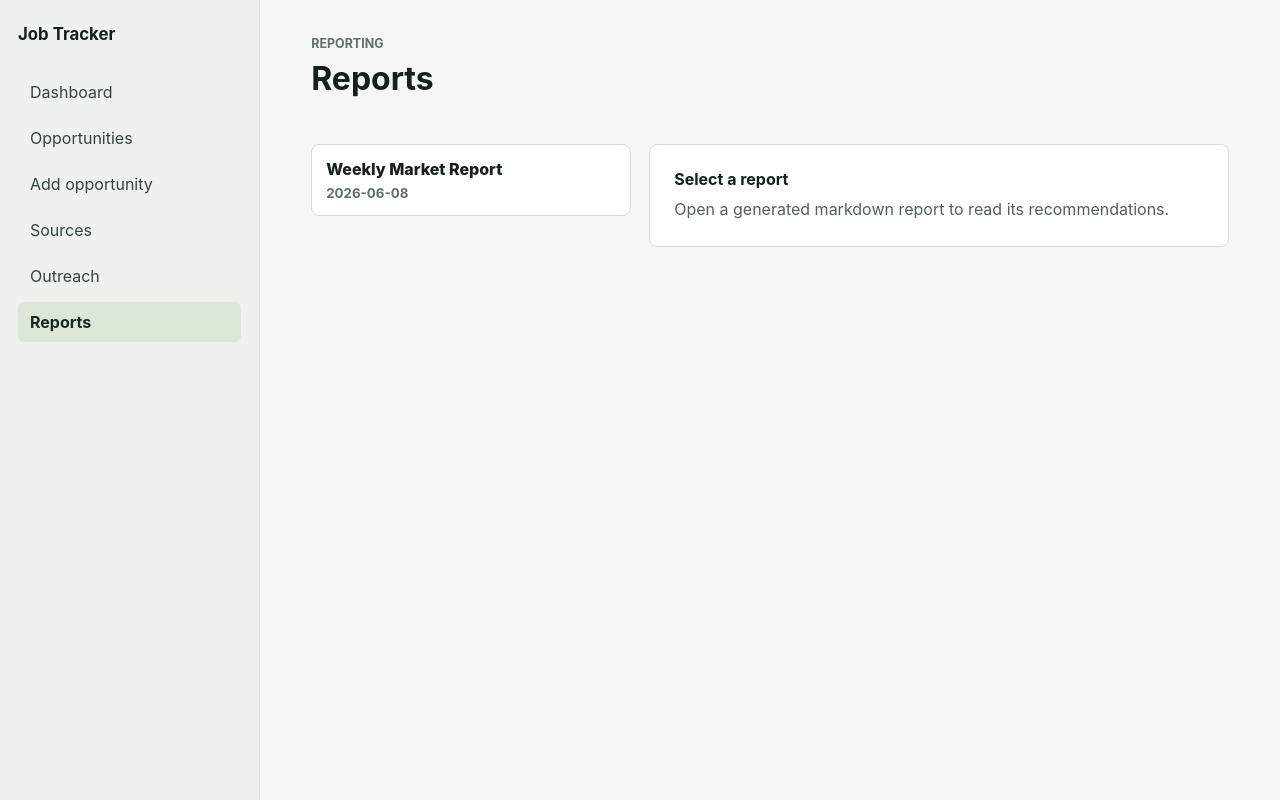
Scenario: Root › loads reports and opens a markdown report
This screenshot has width=1280, height=800.
Click the button "Weekly Market Report 2026-06-08".
click(471, 180)  # box left=311, top=144, right=631, bottom=216
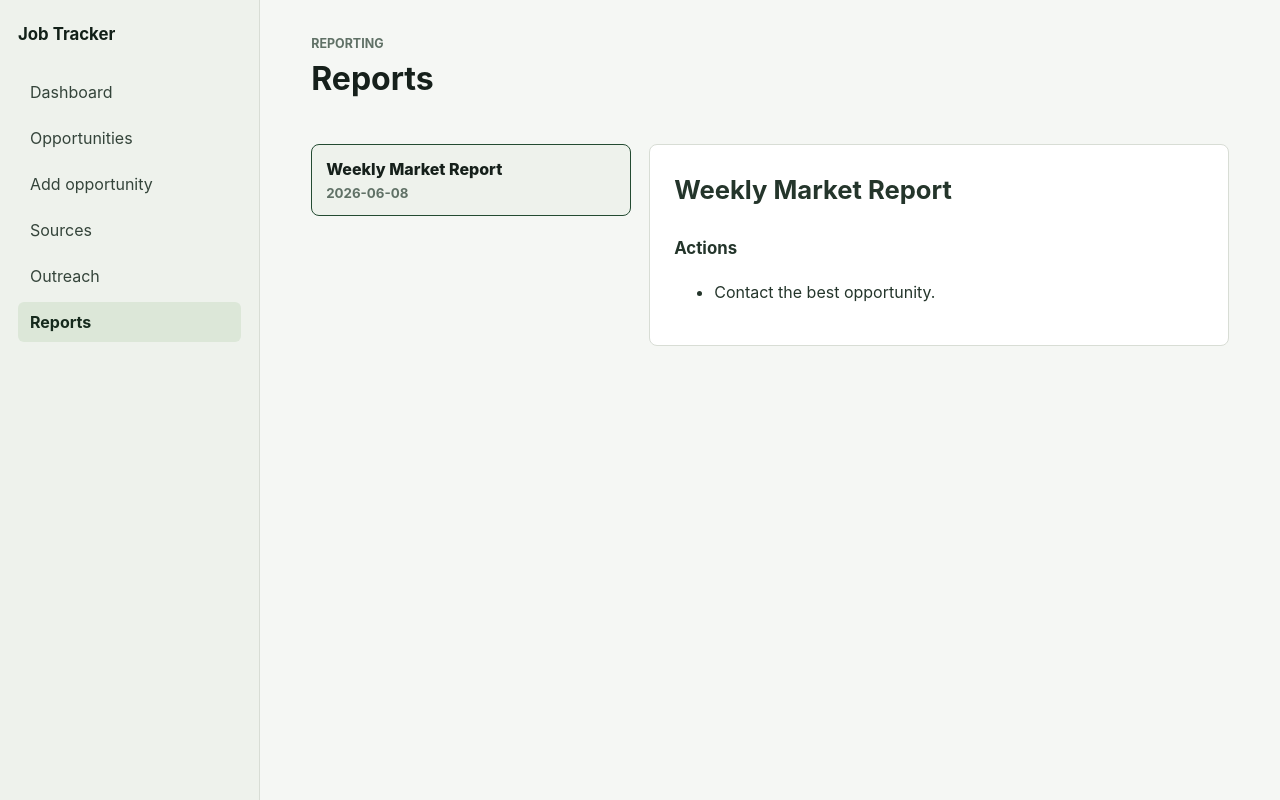
Expected: the list item "Contact the best opportunity." is shown, left=714, top=282, right=936, bottom=302
